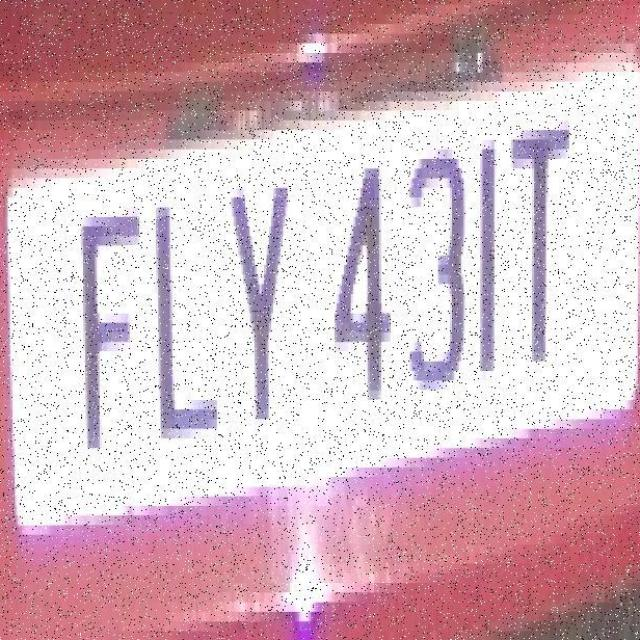LicensePlate: (2, 1, 640, 578)
